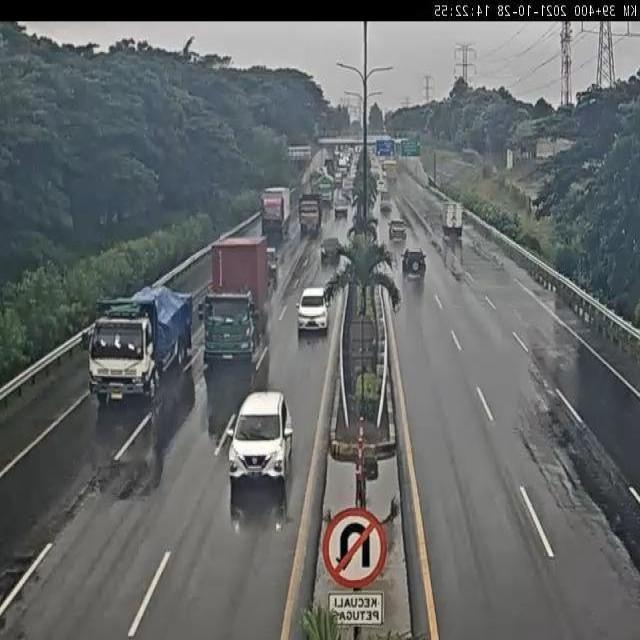Car: (220, 376, 310, 490), (296, 288, 328, 331), (402, 248, 427, 279), (321, 237, 341, 262), (388, 219, 408, 241)
Truck: (87, 273, 200, 404), (206, 231, 271, 364), (255, 184, 295, 231), (441, 193, 474, 242), (299, 200, 321, 236)
